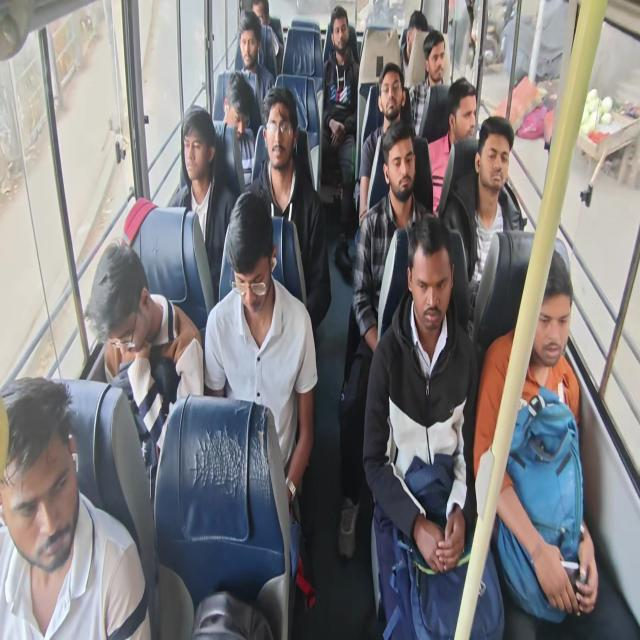person: (362, 212, 505, 638), (473, 248, 599, 626), (337, 119, 433, 560), (0, 376, 152, 638), (203, 190, 318, 512), (85, 240, 204, 498), (245, 84, 332, 332), (438, 114, 525, 334), (169, 106, 236, 303), (321, 6, 359, 280), (358, 61, 415, 227), (428, 76, 478, 216), (235, 9, 275, 134), (221, 70, 256, 188), (408, 30, 446, 136), (251, 0, 281, 76), (400, 9, 428, 85)
